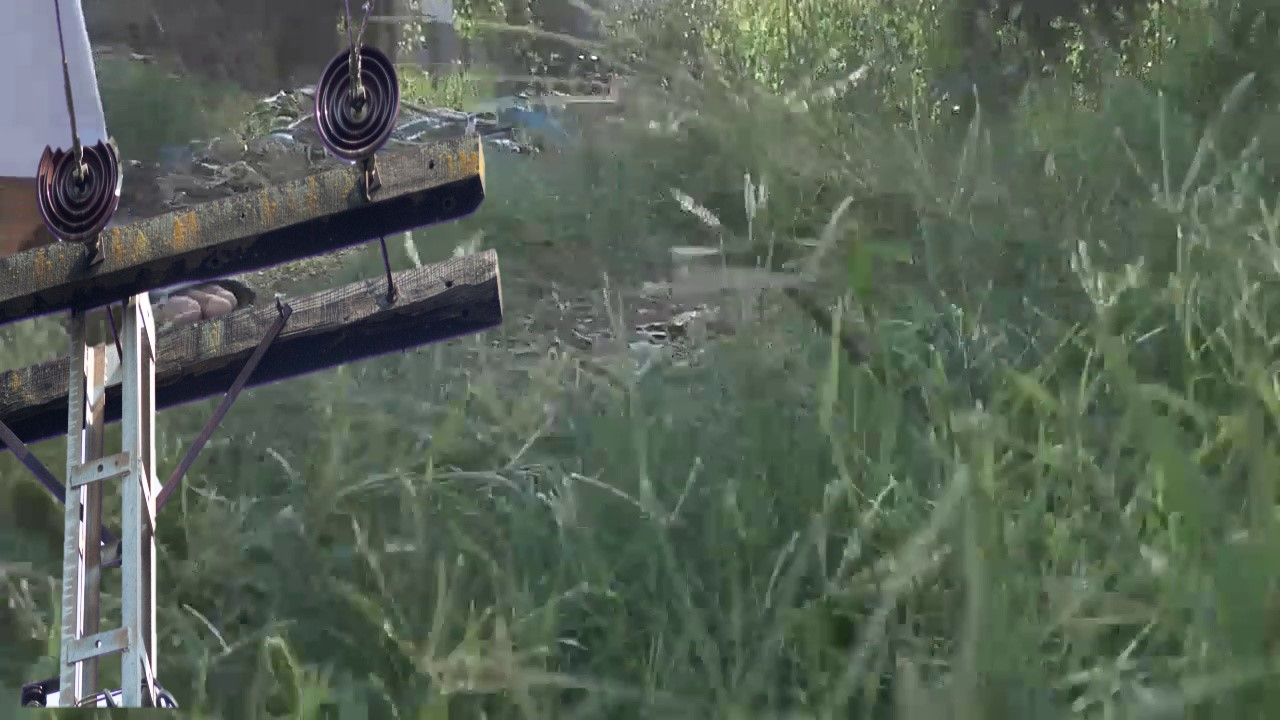defect_disc: (34, 135, 127, 247)
insulator_disc: (311, 43, 403, 166)
